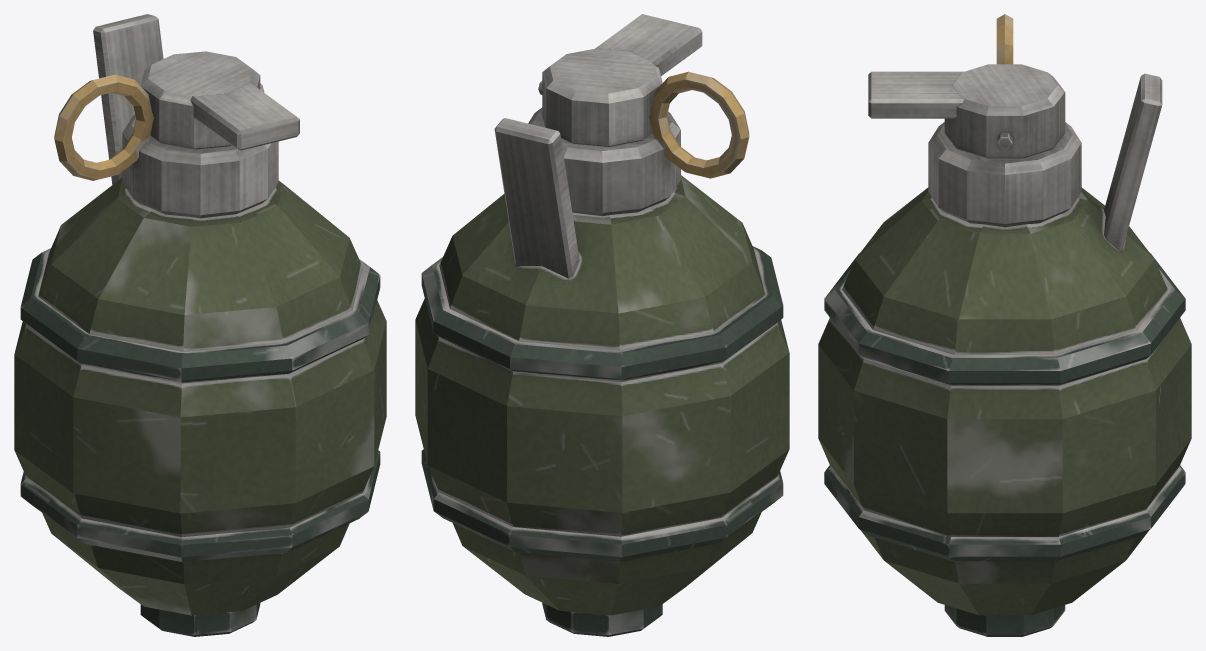
The model's file is frag.glb.
3 views of the same model, side by side, from view 1: azimuth 30°, elevation 25°; view 2: azimuth 150°, elevation 25°; view 3: azimuth 270°, elevation 25° (orthographic). The views are drawn at different scales.
Visible parts, largest first — view 1: frag; view 2: frag; view 3: frag.
Part boxes in pixels (left/top/right/bottom): frag: left=14, top=14, right=386, bottom=636; frag: left=415, top=14, right=789, bottom=636; frag: left=818, top=14, right=1191, bottom=636.
Size of the model in its own units: 0.1298 by 0.2214 by 0.1365.
1 material, 1 textured.
